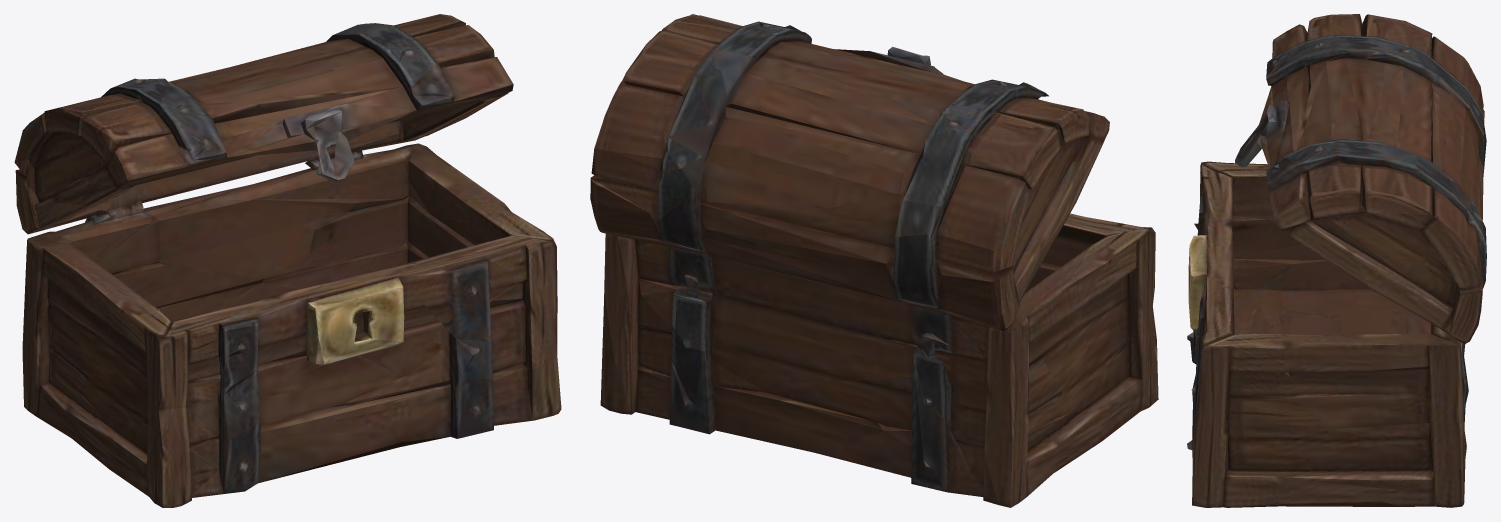
File: chest_open_3d.glb
3 renders of one model, left to right at view 1: azimuth 30°, elevation 25°; view 2: azimuth 150°, elevation 25°; view 3: azimuth 270°, elevation 25°, orthographic. The views are drawn at different scales.
Parts seen in each view (by area): view 1: Mesh_0; view 2: Mesh_0; view 3: Mesh_0.
Boxes of the visible parts, x1,y1,x2,y2 form: Mesh_0: (14,14,561,507); Mesh_0: (590,14,1158,507); Mesh_0: (1187,14,1486,507).
Size of the model in its own units: 0.9062 by 0.7287 by 0.6173.
Materials: 1 (1 with a texture image).
